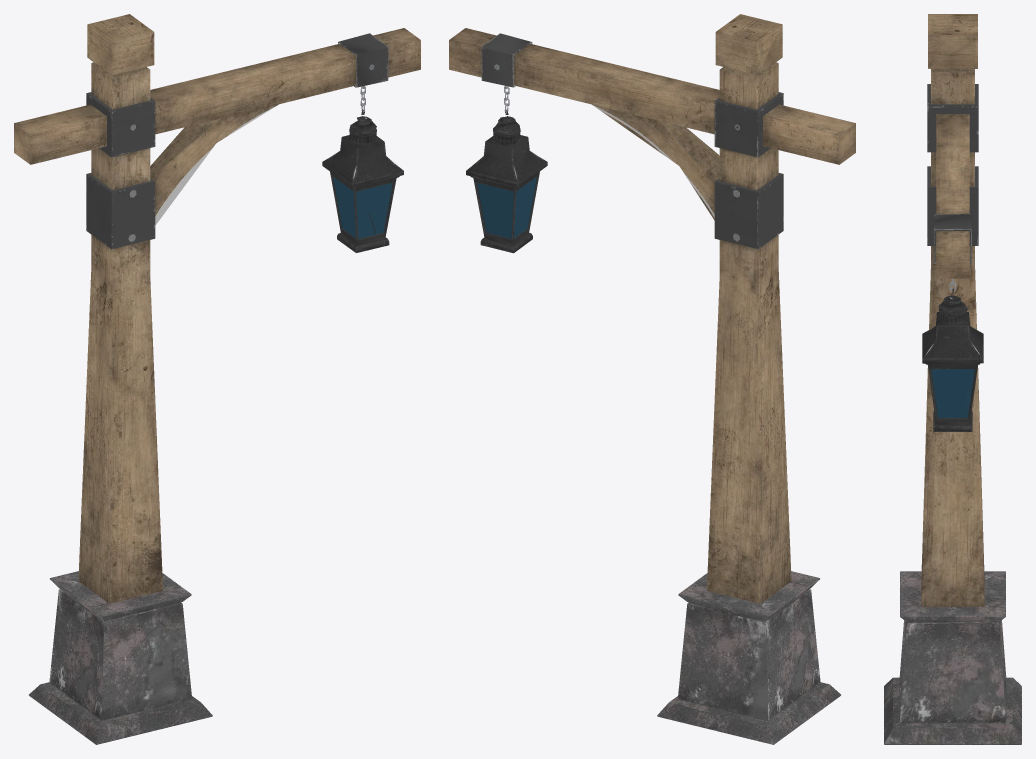
File: Lantern.lod1.glb
The picture shows the model from 3 angles, left to right: view 1: azimuth 30°, elevation 25°; view 2: azimuth 150°, elevation 25°; view 3: azimuth 270°, elevation 25°; orthographic projection.
Visible parts, largest first — view 1: LanternPole_Body, LanternPole_Lantern; view 2: LanternPole_Body, LanternPole_Lantern; view 3: LanternPole_Body, LanternPole_Lantern.
Part boxes in pixels (x1,y1,x2,y2): LanternPole_Body: (14, 14, 420, 744); LanternPole_Lantern: (322, 109, 403, 252); LanternPole_Body: (449, 14, 855, 744); LanternPole_Lantern: (466, 110, 547, 253); LanternPole_Body: (884, 14, 1021, 744); LanternPole_Lantern: (922, 288, 983, 431).
Size of the model in its own units: 15.43 by 25.61 by 4.63.
1 material, 1 textured.
